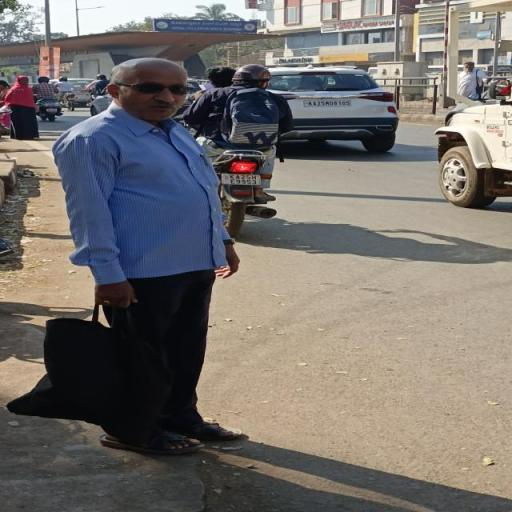bike: (186, 63, 294, 237)
numberplate: (218, 174, 264, 186)
withouthelmet: (207, 67, 232, 88)
